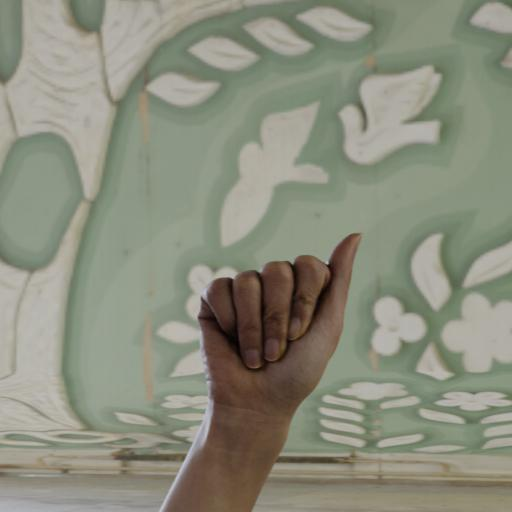A: (149, 226, 389, 512)
